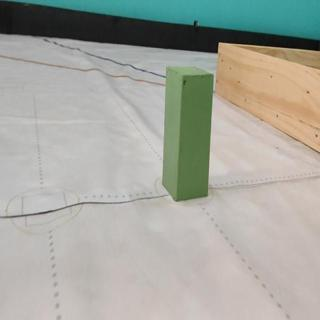greenbox: (162, 61, 214, 204)
